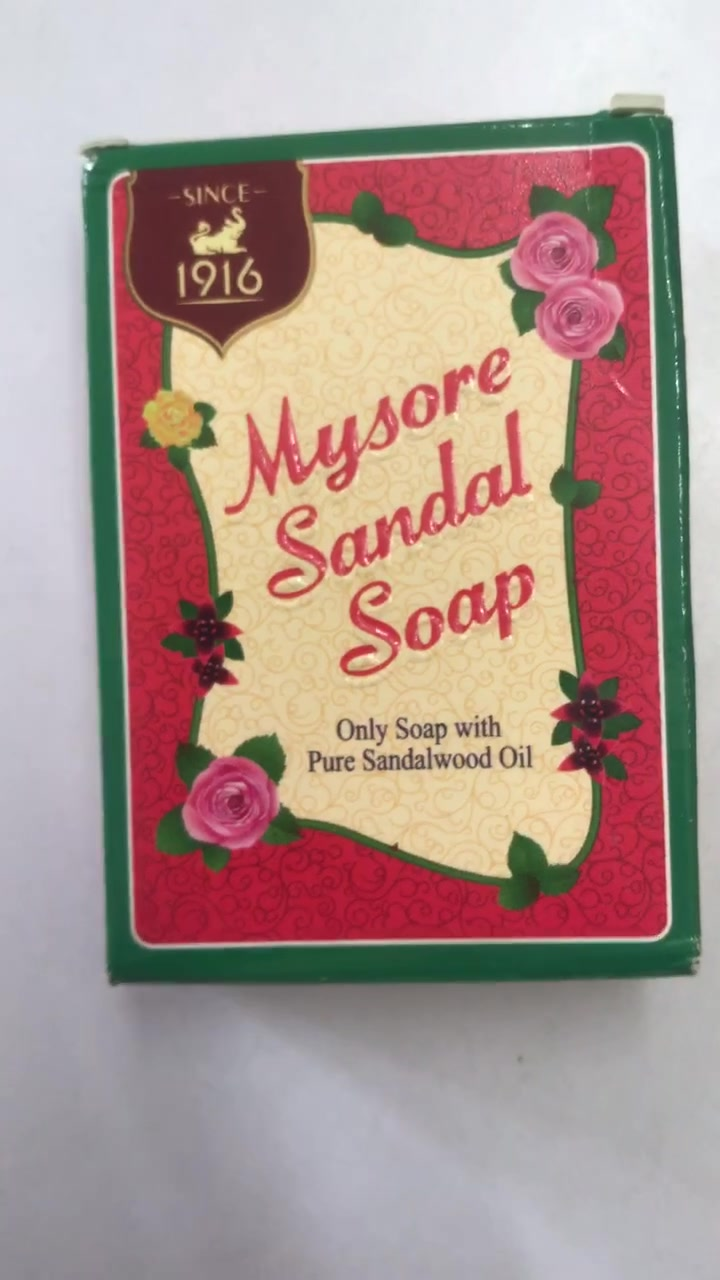mysore sandal soap: (105, 170, 677, 959)
